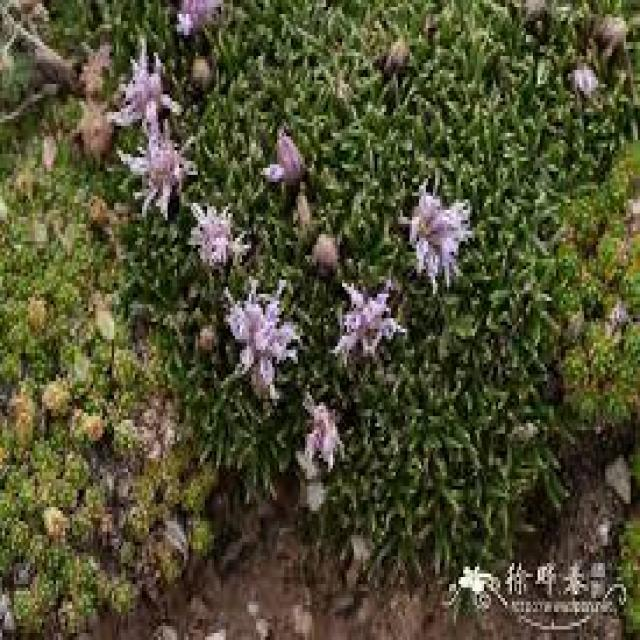organic waste: (226, 297, 310, 395), (330, 260, 405, 366), (402, 187, 468, 299), (110, 49, 187, 143), (118, 126, 196, 210), (192, 185, 250, 287), (286, 406, 354, 482), (255, 122, 311, 192)
